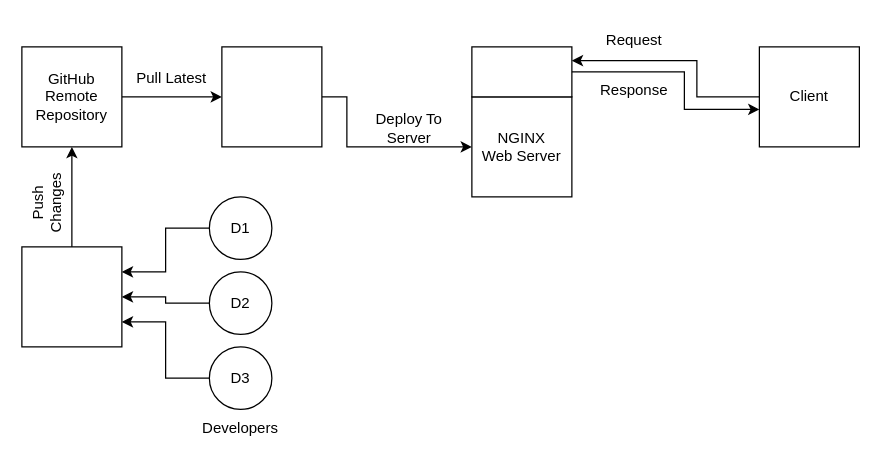
This 881x468 diagram has some shape labels left out. The shapes that lost their labels are listed below. From the top down, each one's centre as x and y in pixels, then its label:
point 521,71: Web Content
point 271,96: Jenkins
point 71,296: Local Code Repo
